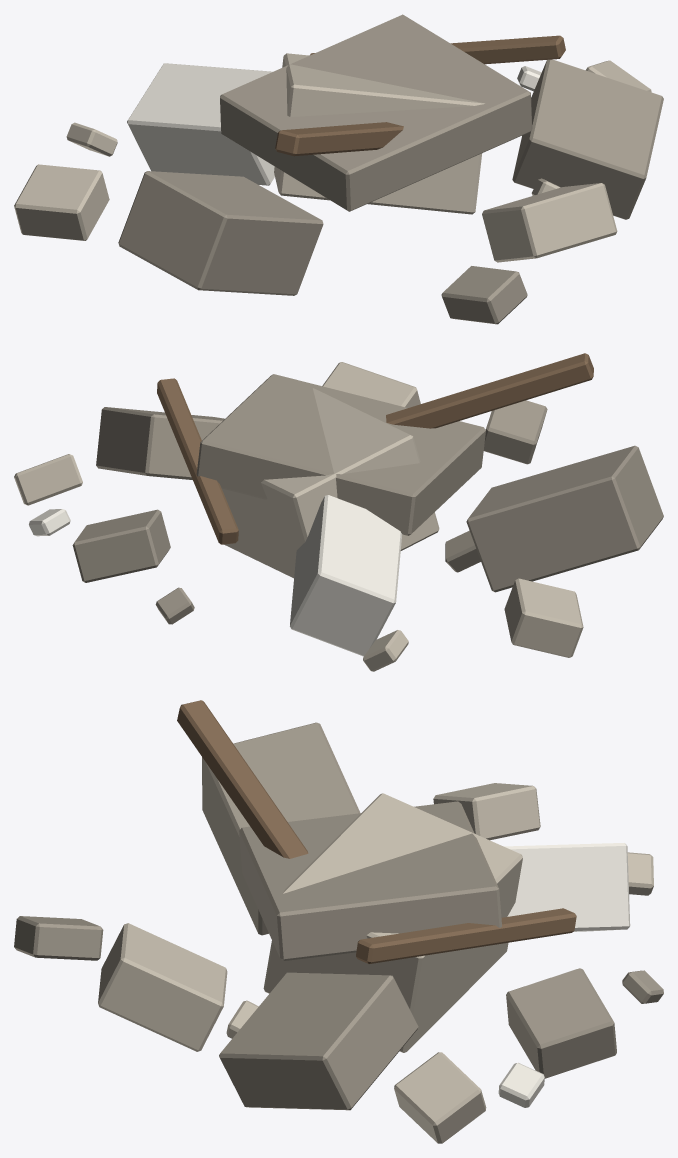
File: TC_ENV_CoralRubble_V1.glb
3 views of the same model, one above another, from view 1: azimuth 30°, elevation 25°; view 2: azimuth 150°, elevation 25°; view 3: azimuth 270°, elevation 25° (orthographic). The views are drawn at different scales.
Parts seen in each view (by area): view 1: TC_ENV_CoralRubble_V1; view 2: TC_ENV_CoralRubble_V1; view 3: TC_ENV_CoralRubble_V1.
Boxes of the visible parts, x1,y1,x2,y2 form: TC_ENV_CoralRubble_V1: [14, 14, 663, 324]; TC_ENV_CoralRubble_V1: [14, 353, 663, 671]; TC_ENV_CoralRubble_V1: [14, 700, 663, 1143].
Size of the model in its own units: 4.43 by 1.36 by 3.75.
